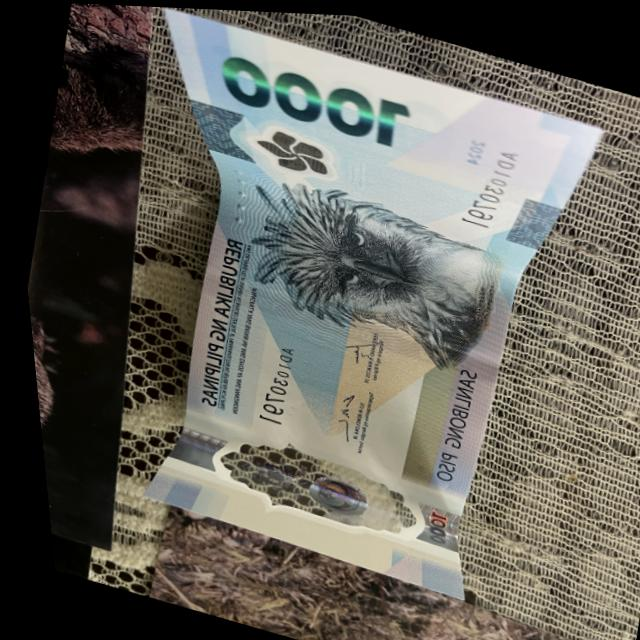clear_window: (137, 394, 470, 565)
eagle: (225, 164, 513, 377)
sampaguita: (232, 111, 375, 194)
security_thread: (190, 270, 494, 379)
serial_number: (223, 314, 305, 435), (443, 128, 525, 233)
